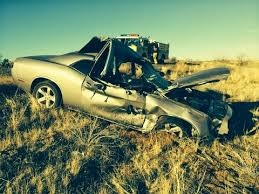Dent: (83, 82, 144, 123)
Smashed: (55, 38, 233, 143)
